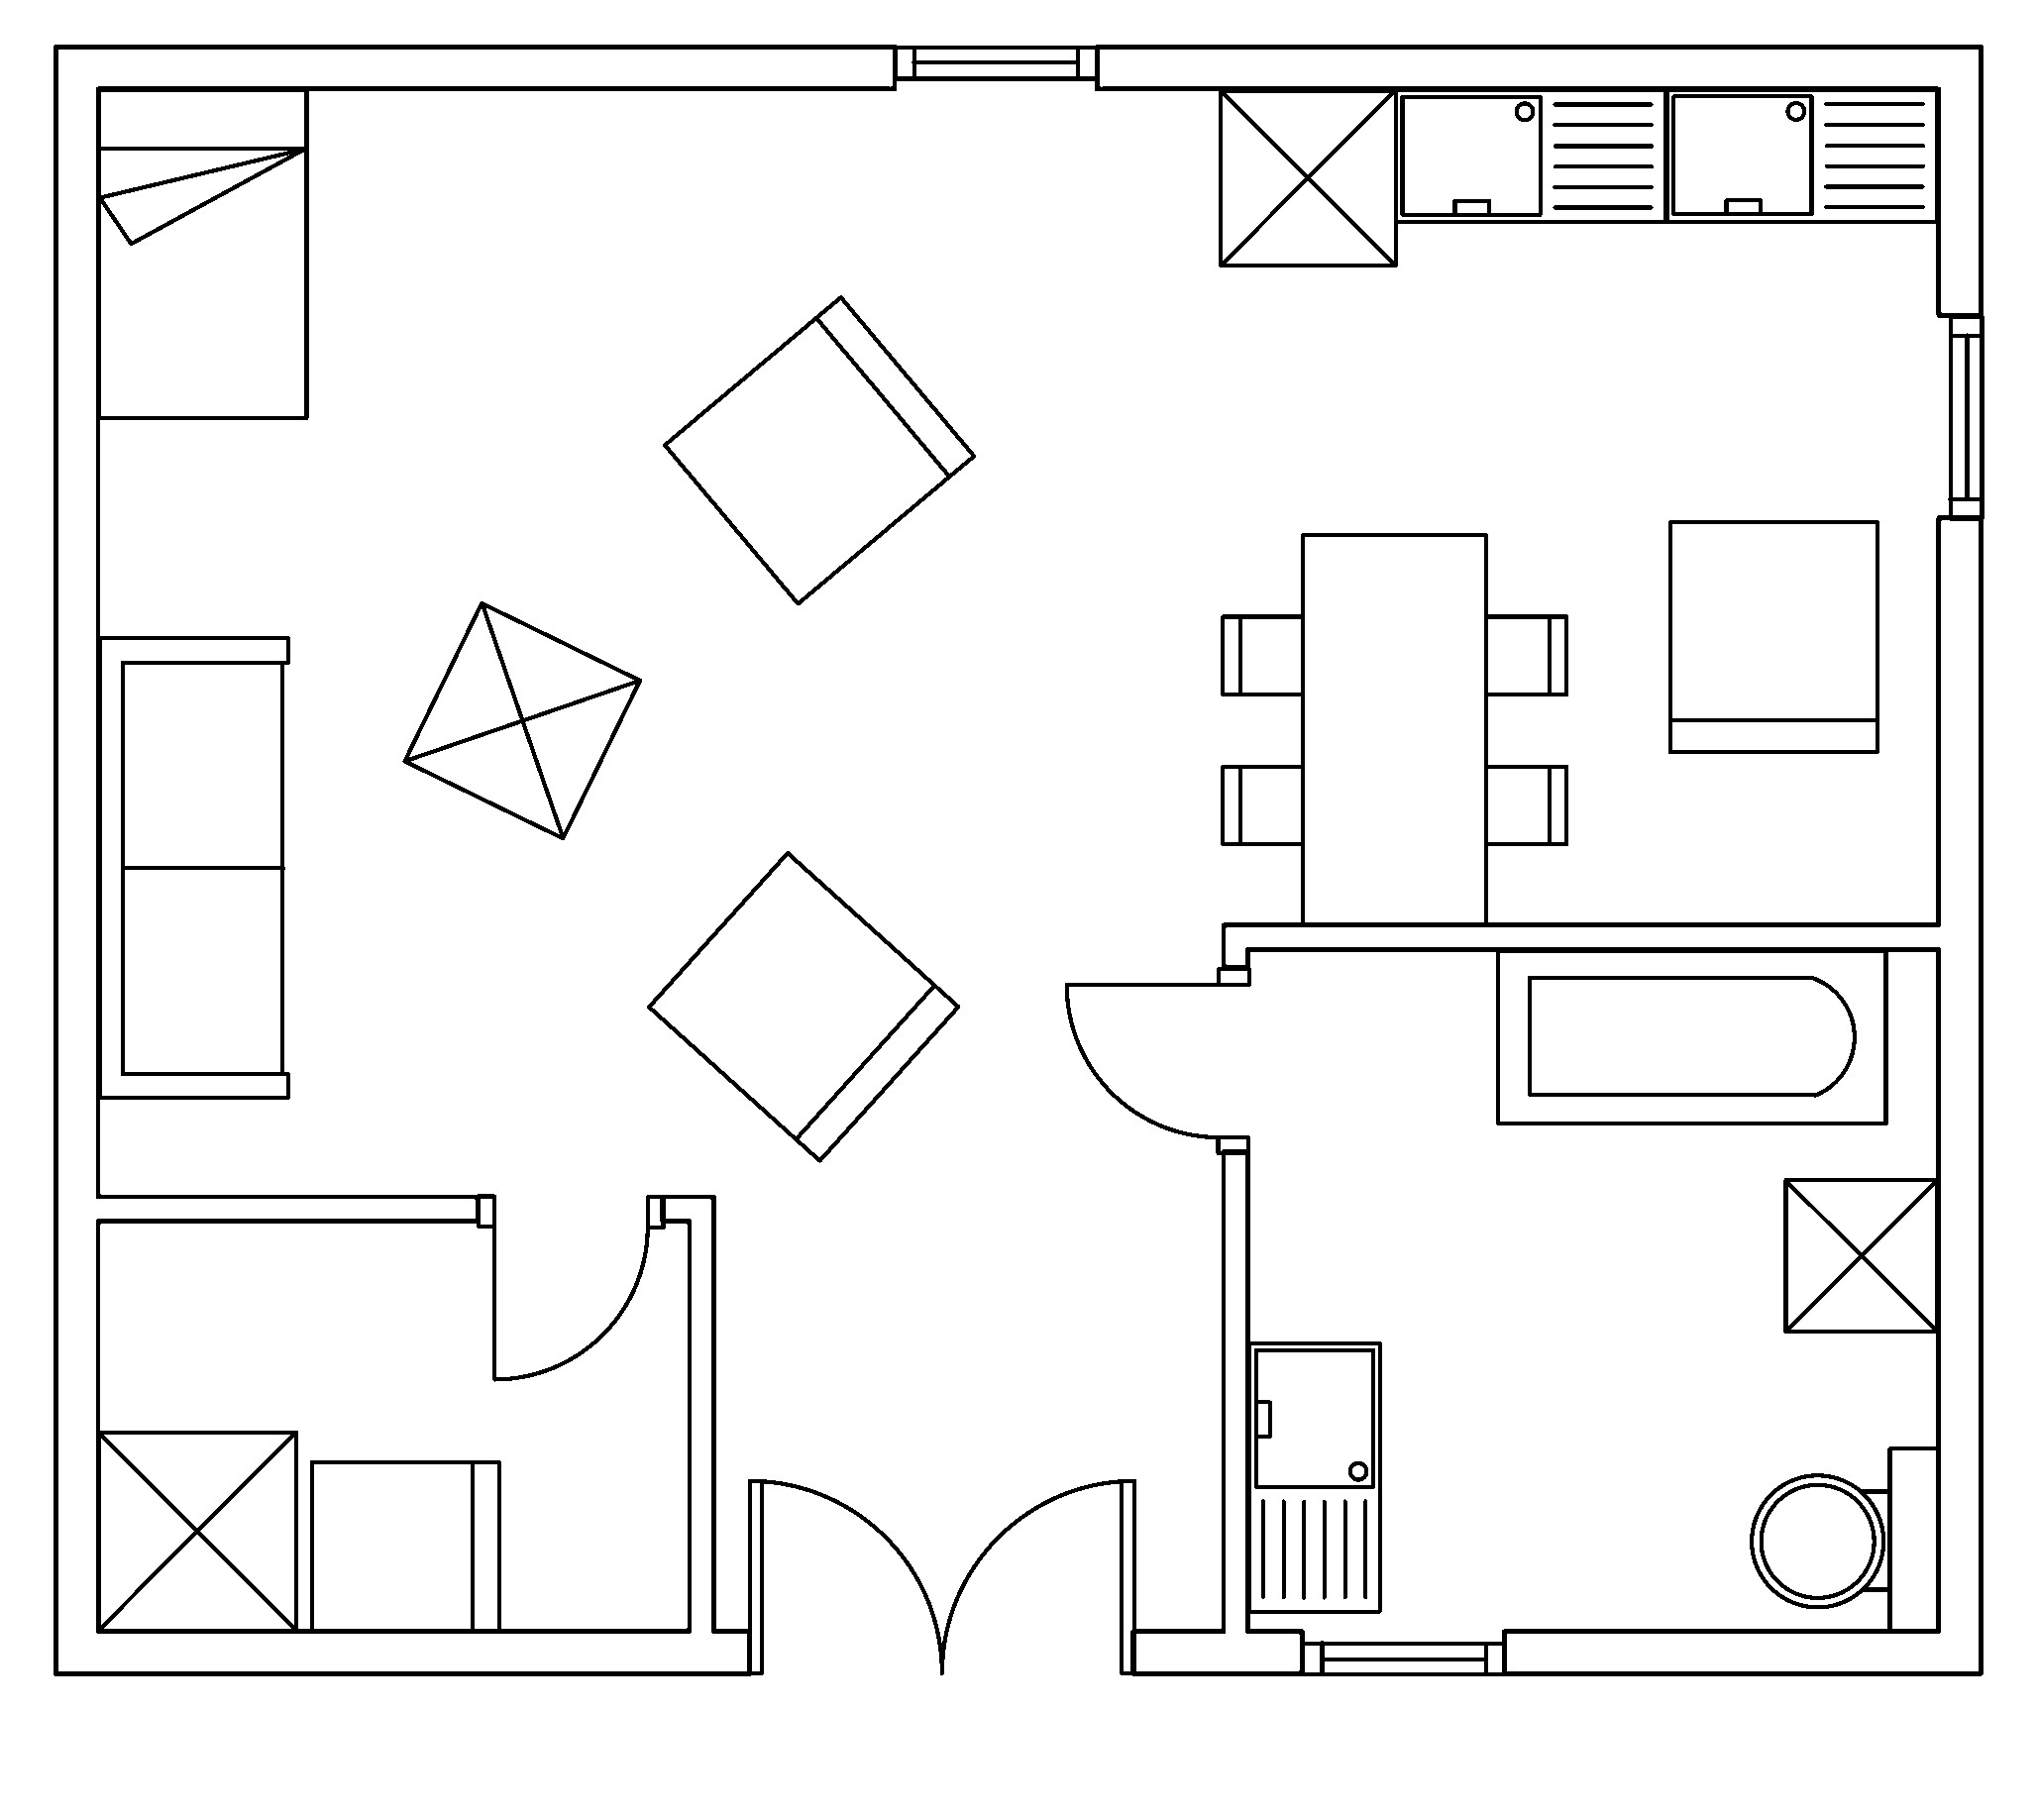bed: (95, 86, 309, 420)
coffee_table: (400, 599, 643, 840), (95, 1428, 299, 1632), (1217, 86, 1398, 267), (1781, 1175, 1940, 1333)
dining_table: (1219, 531, 1568, 926)
large_sink: (1749, 1444, 1940, 1632)
large_sofa: (97, 634, 290, 1100)
sink: (1663, 86, 1940, 223), (1245, 1339, 1382, 1614), (1393, 86, 1668, 223)
small_sofa: (644, 849, 961, 1163), (660, 293, 976, 606), (1666, 518, 1879, 754), (307, 1458, 500, 1632)
tub: (1494, 947, 1888, 1126)
